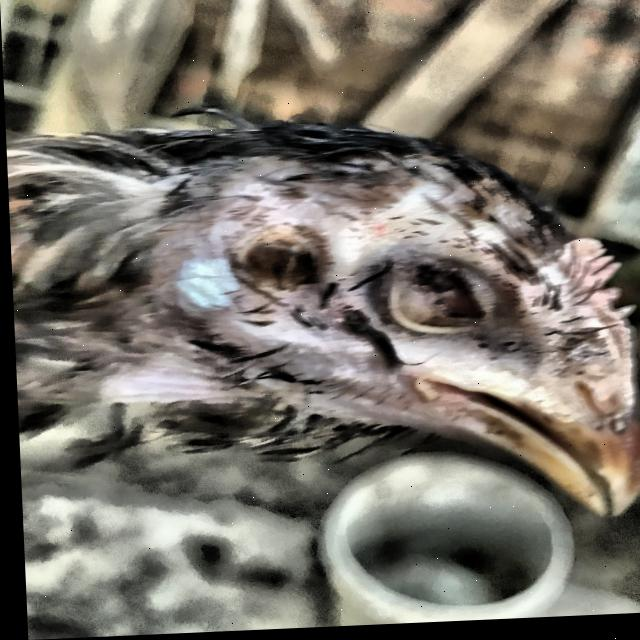Coryza: (80, 117, 640, 582)
